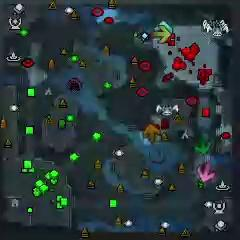x1: (197, 161, 215, 183)
x2: (152, 26, 172, 44)
x3: (152, 20, 175, 32)
x4: (194, 138, 211, 155)
x5: (144, 125, 159, 143)
